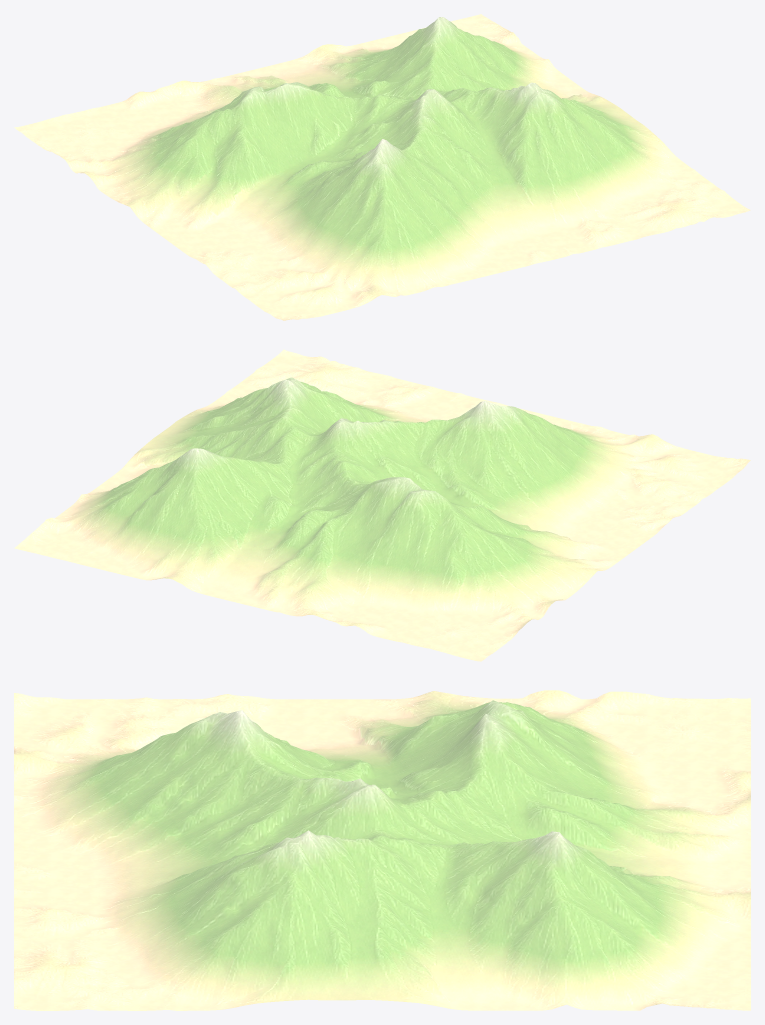
3 views of the same model, one above another, from view 1: azimuth 30°, elevation 25°; view 2: azimuth 150°, elevation 25°; view 3: azimuth 270°, elevation 25° (orthographic). The views are drawn at different scales.
Visible parts, largest first — view 1: WK_Mountain_01; view 2: WK_Mountain_01; view 3: WK_Mountain_01.
Part boxes in pixels (box(x1,y1,x2,y2)): WK_Mountain_01: box(14, 14, 750, 320); WK_Mountain_01: box(14, 349, 750, 661); WK_Mountain_01: box(14, 690, 750, 1010).
Size of the model in its own units: 120000 by 19906 by 120000.
Materials: 1 (1 with a texture image).
